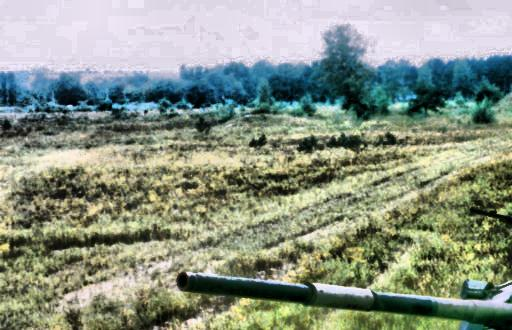tanks: (179, 275, 512, 330), (476, 211, 512, 226)
